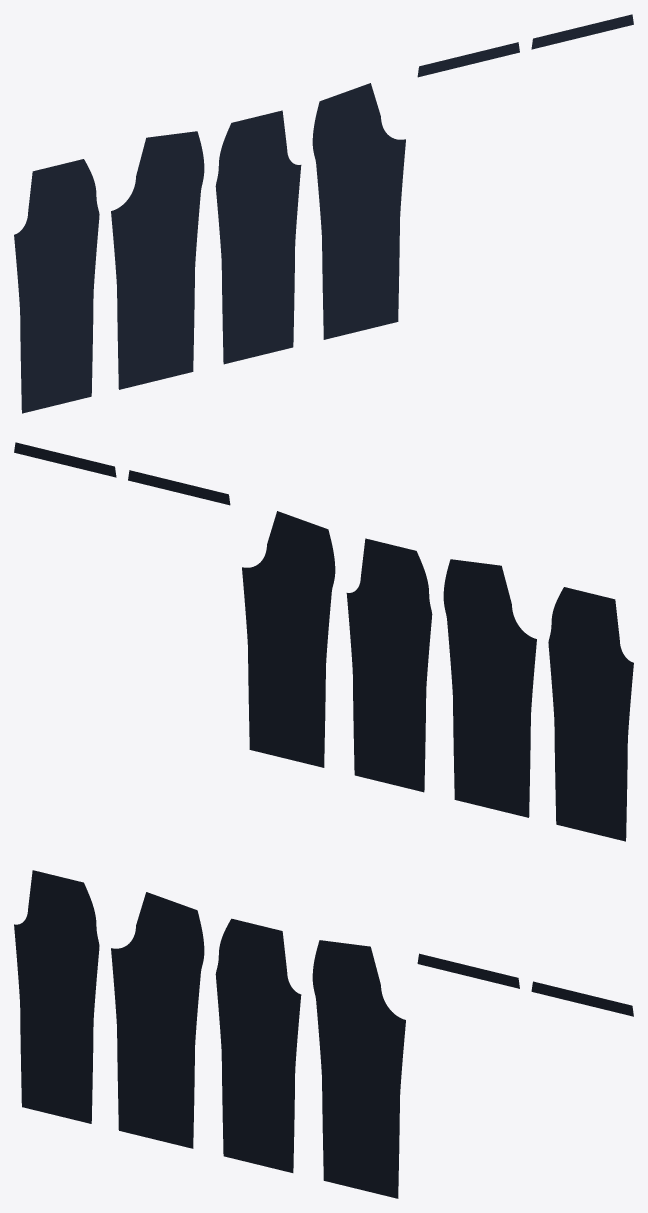
File: jean-pierna-ancha-parche-talla-XL.glb
3 renders of one model, top to bottom at view 1: azimuth 30°, elevation 25°; view 2: azimuth 150°, elevation 25°; view 3: azimuth 330°, elevation 25°, orthographic.
Parts seen in each view (by area): view 1: patron-espalda-izq, patron-espalda-der, patron-delantero-izq, patron-delantero-der, patron-pretina-trasera, patron-pretina-delantera; view 2: patron-espalda-izq, patron-espalda-der, patron-delantero-izq, patron-delantero-der, patron-pretina-trasera, patron-pretina-delantera; view 3: patron-espalda-der, patron-espalda-izq, patron-delantero-izq, patron-delantero-der, patron-pretina-delantera, patron-pretina-trasera.
Part boxes in pixels (x1,y1,x2,y2): patron-espalda-izq: [111, 131, 204, 389]; patron-espalda-der: [312, 83, 405, 339]; patron-delantero-izq: [14, 159, 99, 413]; patron-delantero-der: [215, 110, 301, 364]; patron-pretina-trasera: [531, 14, 633, 49]; patron-pretina-delantera: [417, 42, 519, 77]; patron-espalda-izq: [443, 559, 536, 817]; patron-espalda-der: [242, 511, 335, 767]; patron-delantero-izq: [548, 587, 633, 841]; patron-delantero-der: [346, 538, 432, 792]; patron-pretina-trasera: [14, 442, 116, 477]; patron-pretina-delantera: [128, 470, 230, 505]; patron-espalda-der: [312, 940, 405, 1198]; patron-espalda-izq: [111, 892, 204, 1148]; patron-delantero-izq: [14, 870, 99, 1123]; patron-delantero-der: [215, 918, 301, 1172]; patron-pretina-delantera: [417, 953, 519, 988]; patron-pretina-trasera: [531, 981, 633, 1016].
Size of the model in its own units: 2.72 by 1.05 by 0.
